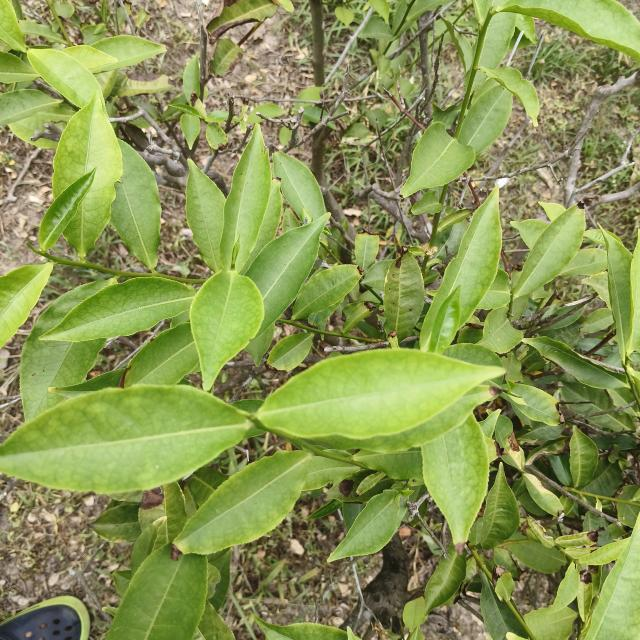Leaf: (0, 385, 251, 494), (257, 349, 498, 440), (174, 451, 313, 554), (20, 281, 111, 421), (52, 90, 122, 258), (426, 187, 502, 329), (245, 213, 329, 335), (40, 277, 196, 342), (106, 544, 208, 640), (422, 412, 489, 553), (190, 271, 264, 391), (496, 0, 640, 61), (219, 125, 271, 271), (512, 205, 585, 297), (111, 140, 161, 270), (584, 524, 640, 640), (401, 122, 475, 197), (524, 337, 629, 389), (328, 490, 401, 562), (124, 322, 199, 388), (38, 168, 96, 250), (0, 262, 53, 347), (186, 160, 225, 272), (27, 48, 99, 107), (458, 80, 512, 157), (603, 231, 632, 363), (291, 265, 360, 319), (479, 67, 539, 126), (478, 463, 519, 549), (384, 253, 424, 341), (273, 152, 325, 218), (139, 481, 187, 546), (424, 543, 466, 615), (207, 0, 278, 42), (94, 35, 166, 70), (503, 384, 560, 426), (426, 286, 460, 353), (0, 89, 61, 125), (506, 539, 567, 574), (479, 307, 524, 354), (559, 376, 614, 414), (302, 456, 363, 490), (479, 13, 516, 69), (255, 618, 347, 640), (93, 503, 141, 542), (524, 606, 578, 640), (266, 333, 313, 371), (523, 473, 564, 516), (564, 539, 630, 565), (570, 426, 598, 486), (494, 416, 524, 470), (111, 73, 174, 97), (131, 524, 160, 576), (444, 20, 473, 71), (550, 564, 580, 611), (476, 269, 510, 309), (0, 0, 26, 51), (560, 248, 607, 276), (62, 45, 116, 69), (210, 38, 243, 76), (0, 52, 38, 84), (510, 219, 547, 249), (18, 21, 65, 44), (523, 517, 555, 548), (343, 302, 375, 332), (587, 411, 634, 431), (355, 232, 379, 271), (581, 306, 613, 334), (576, 570, 593, 622), (246, 103, 285, 124), (183, 53, 199, 104), (403, 596, 426, 631), (360, 15, 391, 40), (555, 530, 597, 548), (411, 190, 441, 215), (356, 471, 386, 495), (180, 114, 200, 149), (308, 499, 343, 518), (441, 209, 472, 230), (205, 124, 228, 150), (514, 14, 535, 42), (170, 103, 206, 119), (538, 201, 566, 221), (369, 0, 389, 25), (364, 108, 388, 128), (343, 122, 370, 139), (335, 6, 353, 26), (298, 86, 320, 102), (376, 54, 390, 79), (303, 106, 322, 124), (206, 110, 228, 124), (472, 71, 487, 91), (330, 124, 336, 129)
